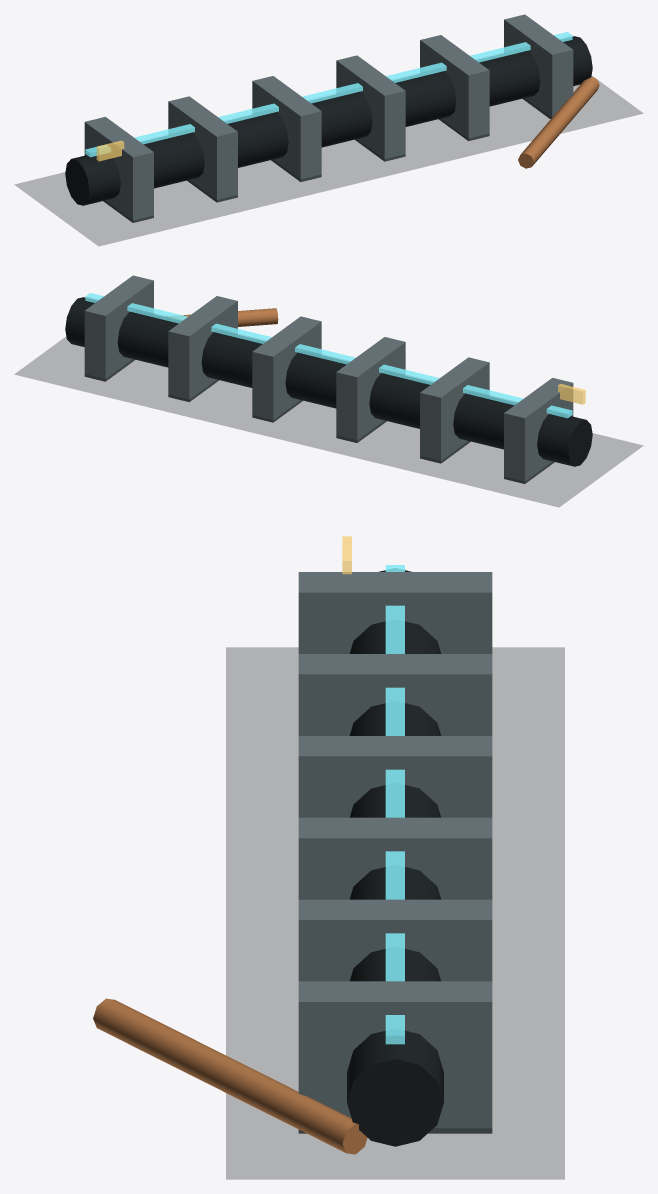
Rendered from hp_room_rm_maint_cable_spine.glb.
3 renders of one model, top to bottom at view 1: azimuth 30°, elevation 25°; view 2: azimuth 150°, elevation 25°; view 3: azimuth 270°, elevation 25°, orthographic. The views are drawn at different scales.
Visible parts, largest first — view 1: contact_shadow, spine_core, vertebra_4, vertebra_3, vertebra_1, vertebra_2, vertebra_0, vertebra_5, pulse_line, branch_cable, tag_amber; view 2: contact_shadow, spine_core, vertebra_5, vertebra_4, vertebra_3, vertebra_1, vertebra_2, vertebra_0, pulse_line, branch_cable, tag_amber; view 3: contact_shadow, spine_core, vertebra_5, vertebra_3, vertebra_4, vertebra_0, vertebra_1, vertebra_2, branch_cable, pulse_line.
Part boxes in pixels (box(x1,y1,x2,y2)): contact_shadow: box(15, 76, 642, 245); spine_core: box(65, 36, 592, 205); vertebra_4: box(420, 35, 489, 141); vertebra_3: box(336, 55, 405, 161); vertebra_1: box(168, 96, 237, 202); vertebra_2: box(252, 76, 321, 181); vertebra_0: box(84, 117, 153, 222); vertebra_5: box(504, 14, 573, 118); pulse_line: box(85, 32, 572, 157); branch_cable: box(518, 76, 599, 168); tag_amber: box(96, 140, 124, 161); contact_shadow: box(15, 337, 642, 506); spine_core: box(65, 297, 592, 466); vertebra_5: box(84, 275, 153, 381); vertebra_4: box(168, 296, 237, 402); vertebra_3: box(252, 316, 321, 422); vertebra_1: box(420, 357, 489, 463); vertebra_2: box(336, 337, 405, 442); vertebra_0: box(504, 378, 573, 483); pulse_line: box(85, 293, 572, 418); branch_cable: box(169, 308, 278, 326); tag_amber: box(558, 384, 585, 404); contact_shadow: box(226, 647, 564, 1179); spine_core: box(347, 568, 443, 1146); vertebra_5: box(298, 981, 492, 1133); vertebra_3: box(298, 817, 492, 899); vertebra_4: box(298, 899, 492, 981); vertebra_0: box(298, 572, 492, 653); vertebra_1: box(298, 654, 492, 735); vertebra_2: box(298, 736, 492, 817); branch_cable: box(93, 998, 367, 1154); pulse_line: box(385, 565, 404, 1044).
Bounding box in the file's own units: 2.6 × 0.33 × 0.9745.
